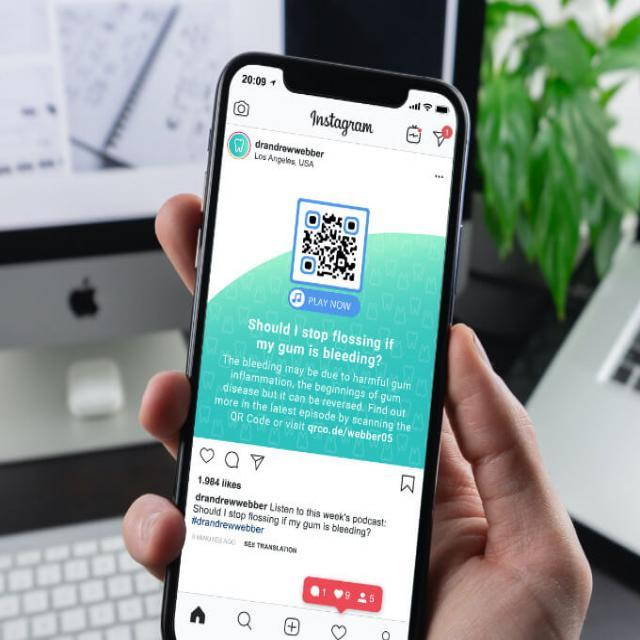qr_code: (300, 210, 360, 282)
